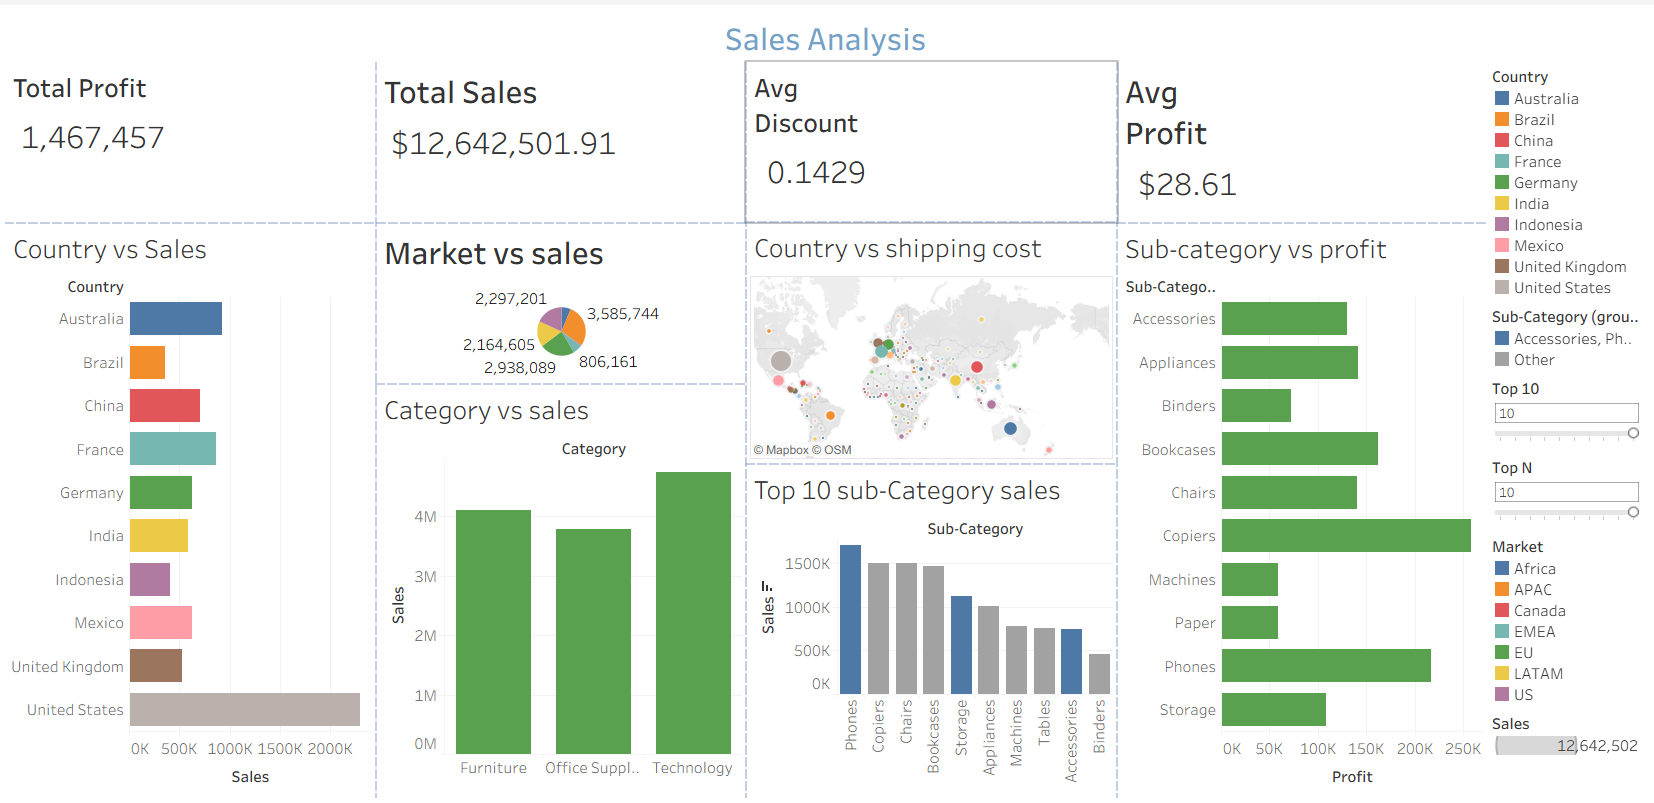

What the dashboard file says about the page in this screenshot:
{"tool":"tableau","page":{"name":"Dashboard 1","canvas":[1000,1000],"units":"permille","ordinal":0},"visuals":[{"type":"title","box":[4.8,10,990.3,61.2]},{"type":"worksheet","title":"Sheet 6","mark":"Automatic","box":[4.8,71.2,223.7,201.3]},{"type":"worksheet","title":"Sheet 2","mark":"Automatic","box":[228.6,71.2,223.8,200.7]},{"type":"worksheet","title":"Sheet 7","mark":"Automatic","box":[452.3,71.2,223.7,200.3]},{"type":"worksheet","title":"Sheet 8","mark":"Automatic","box":[676,71.2,223.8,201.3]},{"type":"legend","title":"Sheet 1","param":"[federated.05mmbba1cq7anu0zmhhre0dw1cw7].[none:Country:nk]","box":[899.8,71.2,95.4,299.6]},{"type":"worksheet","title":"Sheet 9","mark":"Automatic","box":[452.3,271.5,223.7,301.3]},{"type":"worksheet","title":"Sheet 10","mark":"Pie","box":[228.6,271.9,223.8,200.7]},{"type":"worksheet","title":"Sheet 1","mark":"Automatic","rows":["Country"],"cols":["Sales"],"box":[4.8,272.5,223.7,717.5]},{"type":"worksheet","title":"Sheet 5","mark":"Automatic","rows":["Sub-Category"],"cols":["Profit"],"box":[676,272.5,223.8,717.5]},{"type":"legend","title":"Sheet 4","param":"[federated.05mmbba1cq7anu0zmhhre0dw1cw7].[Sub-Category (group)]","box":[899.8,370.8,95.4,89.9]},{"type":"parameter","param":"[Parameters].[Parameter 2]","box":[899.8,460.7,95.4,98.6]},{"type":"worksheet","title":"Sheet 3","mark":"Automatic","rows":["Sales"],"cols":["Category"],"box":[228.6,472.6,223.8,517.4]},{"type":"parameter","param":"[Parameters].[Parameter 1]","box":[899.8,559.3,95.4,98.6]},{"type":"worksheet","title":"Sheet 4","mark":"Automatic","rows":["Sales"],"cols":["Sub-Category"],"box":[452.3,572.8,223.7,417.2]},{"type":"legend","title":"Sheet 10","param":"[federated.05mmbba1cq7anu0zmhhre0dw1cw7].[none:Market:nk]","box":[899.8,658,95.4,221]},{"type":"legend","title":"Sheet 10","param":"[federated.05mmbba1cq7anu0zmhhre0dw1cw7].[sum:Sales:qk]","box":[899.8,878.9,95.4,63.7]}]}

Visuals, with their boxes on the dashboard's canvas, which has no fixed pixel size, in thousandths of its width and height (x1, y1, x2, y2). These are canvas units, not pixel positions in the 1654x803 screenshot, which may show the page scaled, cropped or inside an application window:
title: l=5, t=10, r=995, b=71
"Sheet 6" worksheet: l=5, t=71, r=228, b=272
"Sheet 2" worksheet: l=229, t=71, r=452, b=272
"Sheet 7" worksheet: l=452, t=71, r=676, b=272
"Sheet 8" worksheet: l=676, t=71, r=900, b=272
"Sheet 1" legend: l=900, t=71, r=995, b=371
"Sheet 9" worksheet: l=452, t=272, r=676, b=573
"Sheet 10" worksheet (Pie marks): l=229, t=272, r=452, b=473
"Sheet 1" worksheet: l=5, t=272, r=228, b=990
"Sheet 5" worksheet: l=676, t=272, r=900, b=990
"Sheet 4" legend: l=900, t=371, r=995, b=461
parameter: l=900, t=461, r=995, b=559
"Sheet 3" worksheet: l=229, t=473, r=452, b=990
parameter: l=900, t=559, r=995, b=658
"Sheet 4" worksheet: l=452, t=573, r=676, b=990
"Sheet 10" legend: l=900, t=658, r=995, b=879
"Sheet 10" legend: l=900, t=879, r=995, b=943
